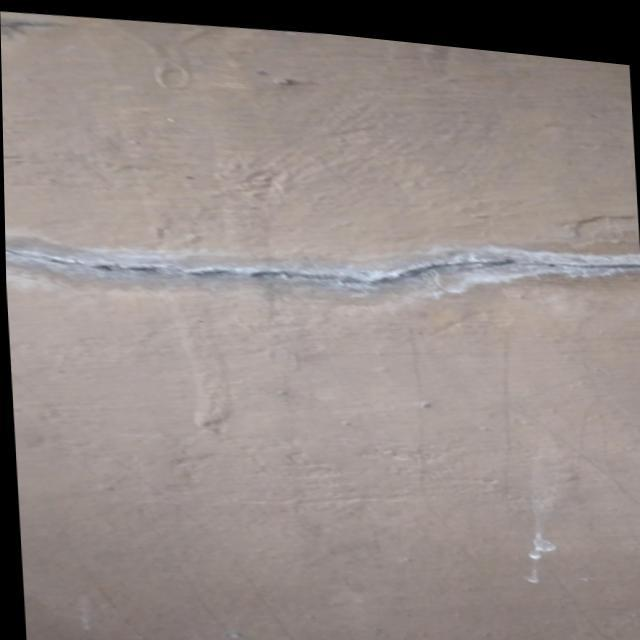Crack: (10, 240, 637, 296)
